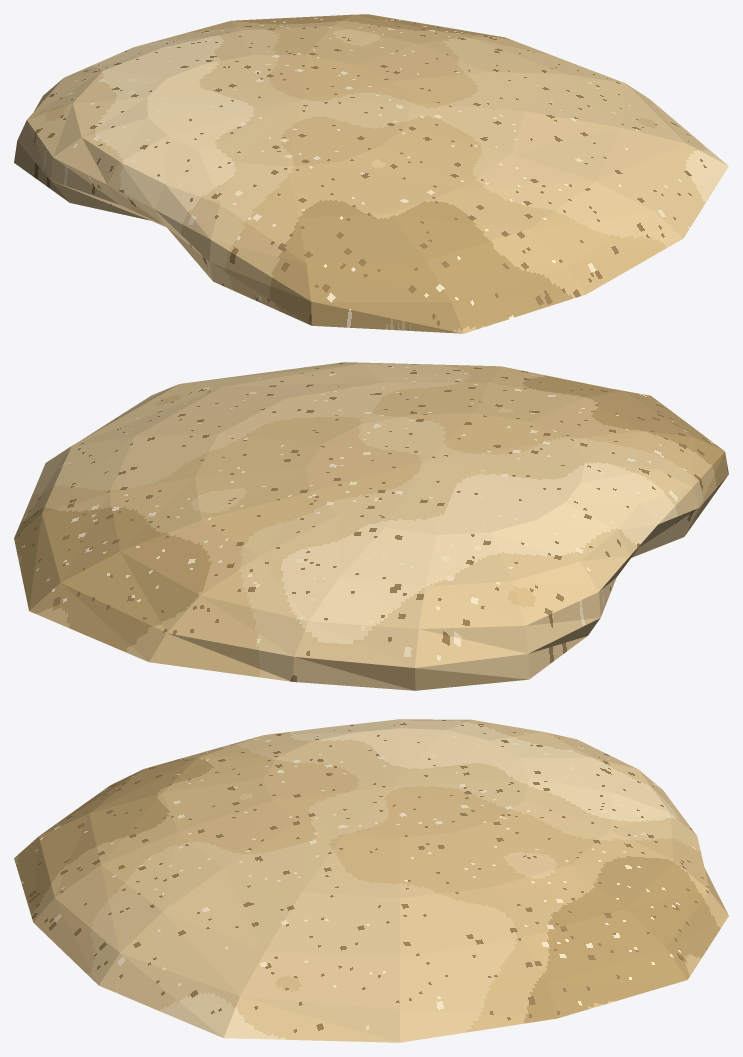
Rendered from island-3.glb.
3 renders of one model, top to bottom at view 1: azimuth 30°, elevation 25°; view 2: azimuth 150°, elevation 25°; view 3: azimuth 270°, elevation 25°, orthographic. The views are drawn at different scales.
Parts seen in each view (by area): view 1: Island-3; view 2: Island-3; view 3: Island-3.
Boxes of the visible parts, left/top/right/bottom form: Island-3: left=14, top=14, right=728, bottom=333; Island-3: left=14, top=362, right=728, bottom=690; Island-3: left=14, top=719, right=728, bottom=1042.
Bounding box in the file's own units: 5.42 × 0.7985 × 6.06.
Materials: 1 (1 with a texture image).
